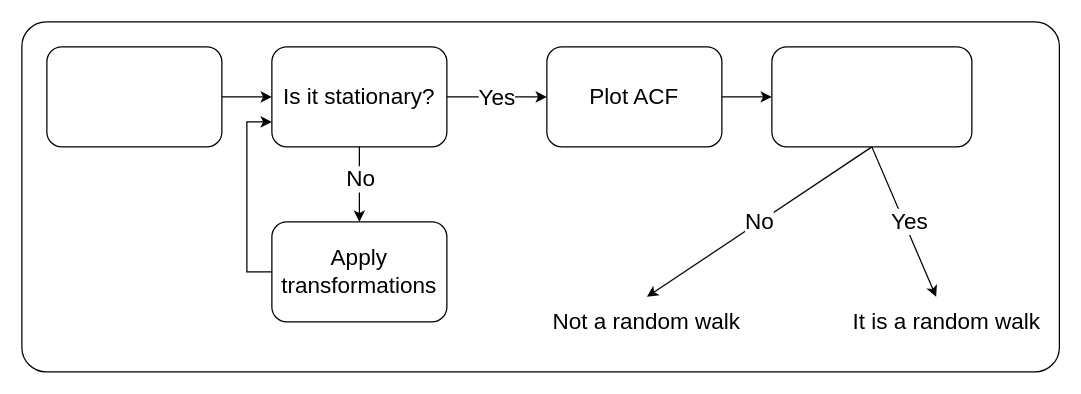
Image size: 1081x394. Some labels were removed from this diagram. Each missing label, with the box of its shape:
Gather data: (46, 46, 222, 147)
Is there autocorrelation?: (771, 46, 972, 147)
